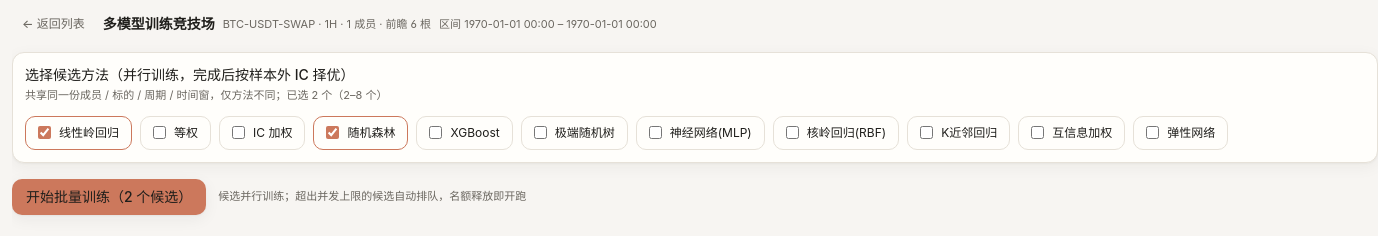
WeightBatchLauncher — 方法多选 / 不可用禁用 / 候选数下限 / 提交体 › 候选降到 <2 → 开始按钮禁用
Click the checkbox labelled "随机森林" at (333, 132), box [326,126,339,139]
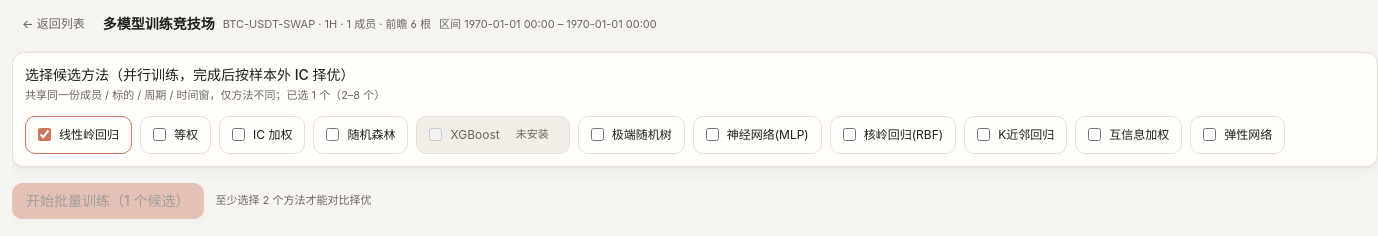
Check: the button "开始批量训练（1 个候选）" is disabled, box [12,182,204,218]
